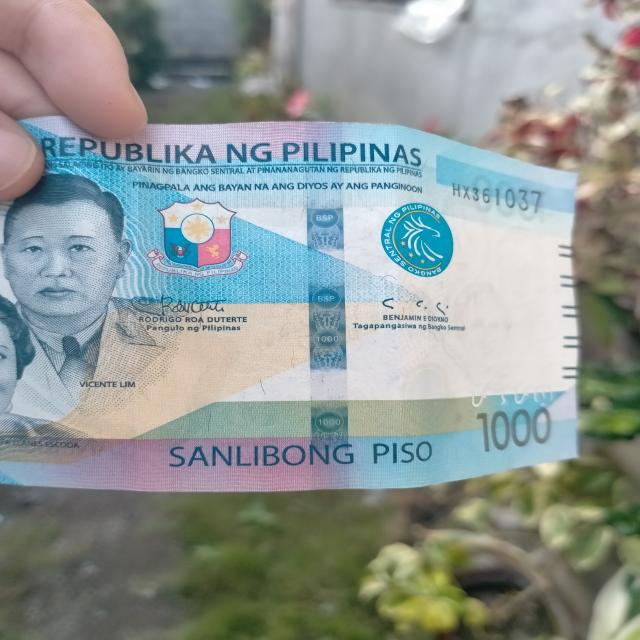security_thread: (303, 118, 347, 487)
see_through_mark: (460, 373, 574, 412)
serial_number: (444, 174, 549, 216)
